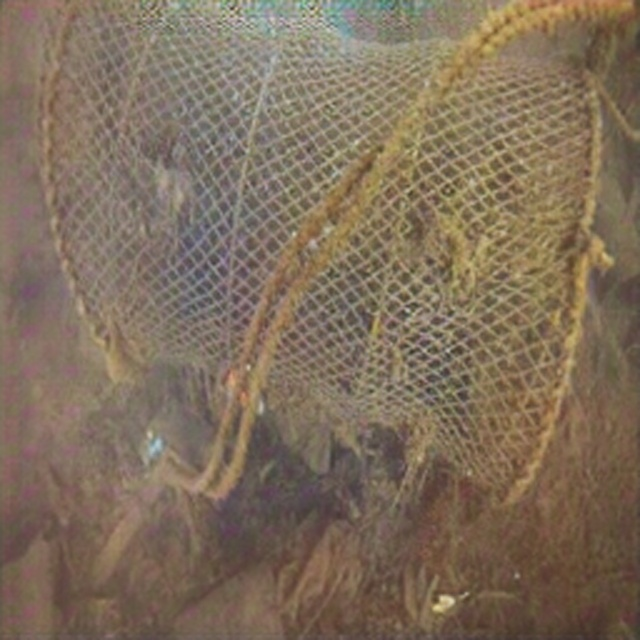mine: (37, 0, 601, 507)
